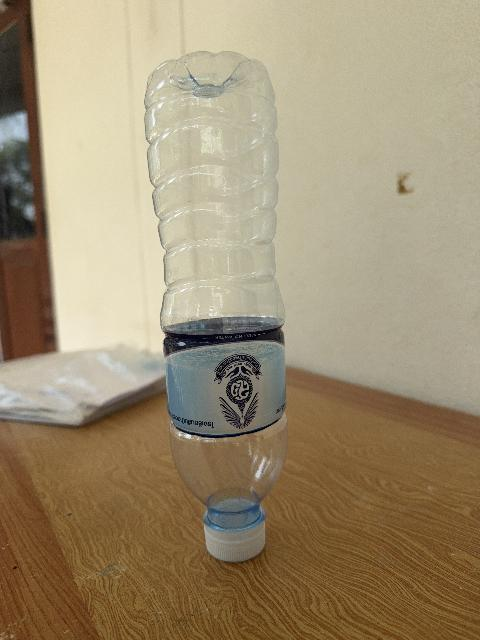bottle: (146, 52, 287, 561)
